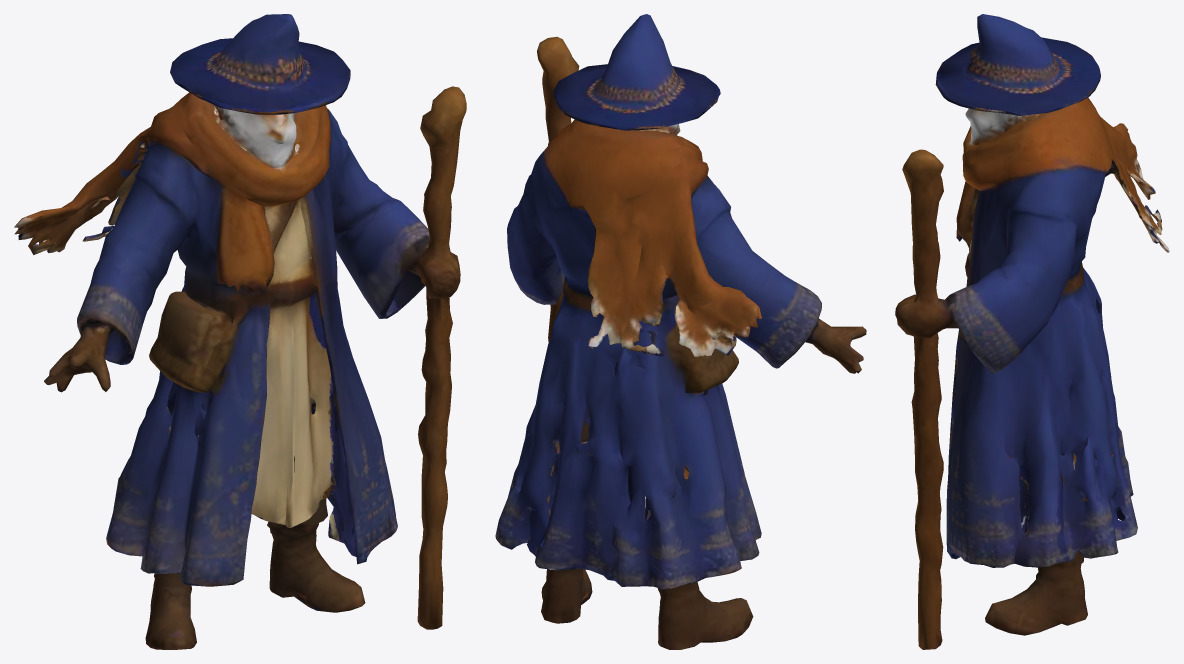
Rendered from keeper-hd.glb.
3 views of the same model, side by side, from view 1: azimuth 30°, elevation 25°; view 2: azimuth 150°, elevation 25°; view 3: azimuth 270°, elevation 25° (orthographic). The views are drawn at different scales.
Parts seen in each view (by area): view 1: keeper-b-hd.raw; view 2: keeper-b-hd.raw; view 3: keeper-b-hd.raw.
Boxes of the visible parts, x1,y1,x2,y2 form: keeper-b-hd.raw: (14,14,466,649); keeper-b-hd.raw: (495,14,866,649); keeper-b-hd.raw: (895,14,1169,649).
Size of the model in its own units: 1.29 by 2 by 0.8561.
Materials: 1 (1 with a texture image).
